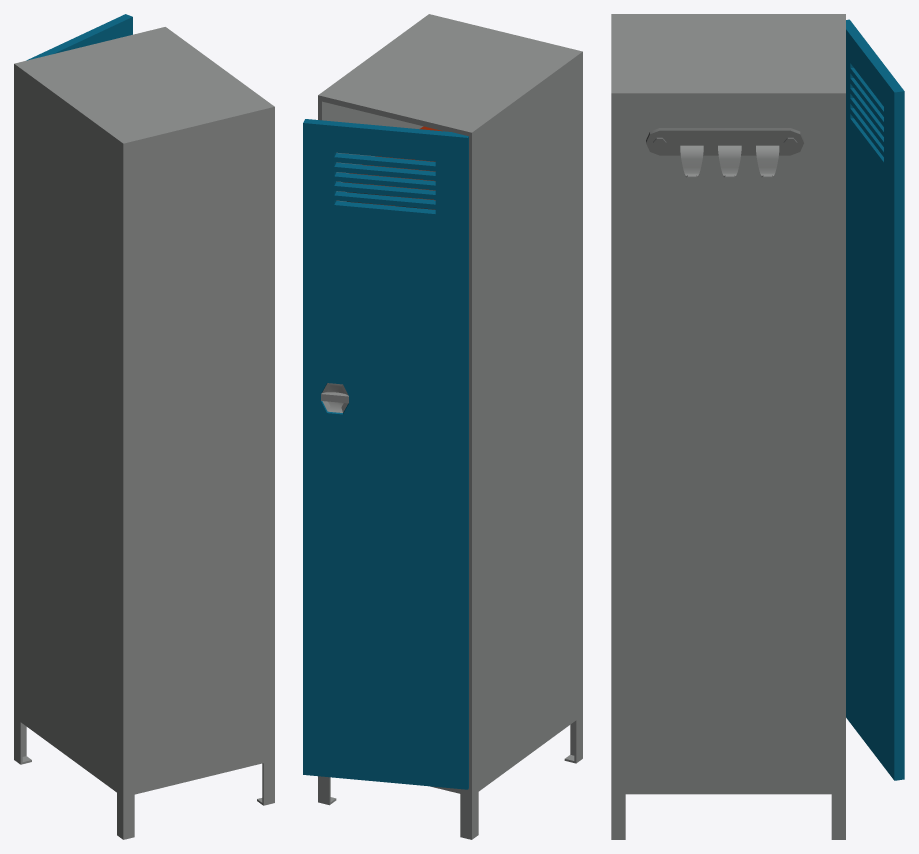
The model's file is Schrank_Lightmap.fbx.
3 views of the same model, side by side, from view 1: azimuth 30°, elevation 25°; view 2: azimuth 150°, elevation 25°; view 3: azimuth 270°, elevation 25° (orthographic). The views are drawn at different scales.
Visible parts, largest first — view 1: pCube51; view 2: pCube51; view 3: pCube51.
Part boxes in pixels (box(x1,y1,x2,y2)): pCube51: box(14, 14, 274, 839); pCube51: box(303, 14, 582, 839); pCube51: box(611, 14, 904, 839).
Bounding box in the file's own units: 47.13 × 176 × 62.52.
